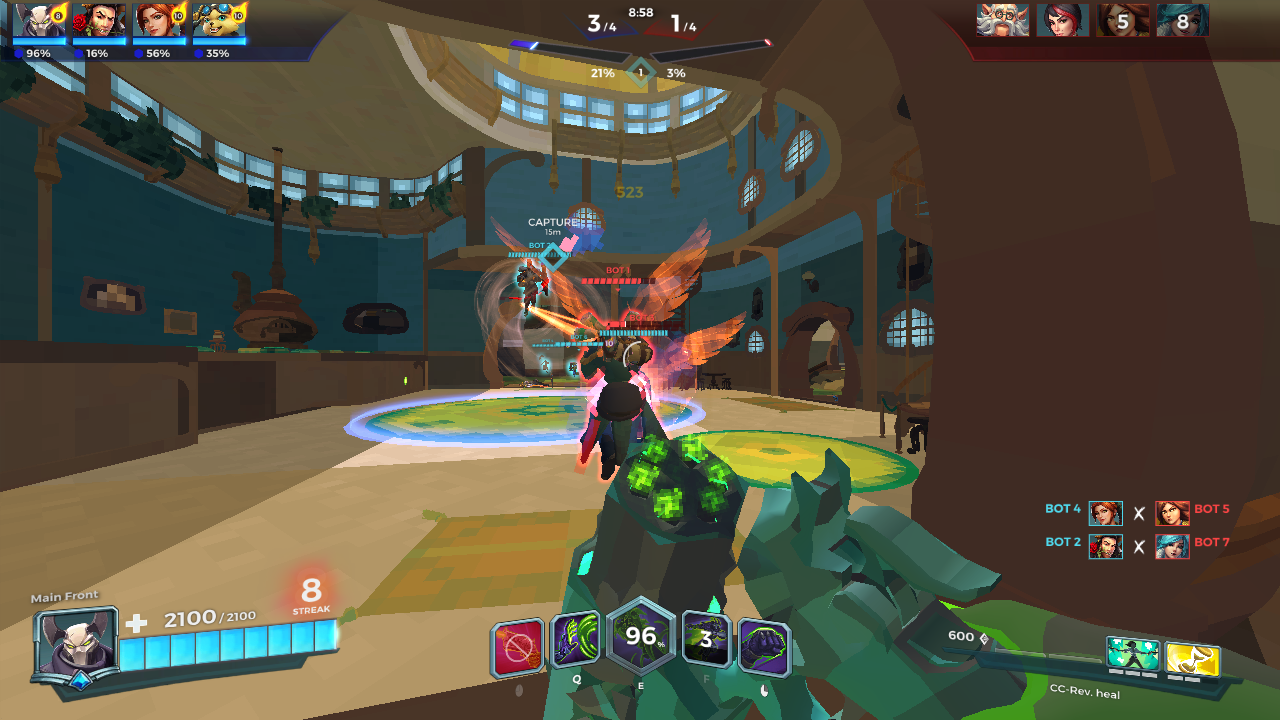model: (562, 301, 668, 484)
